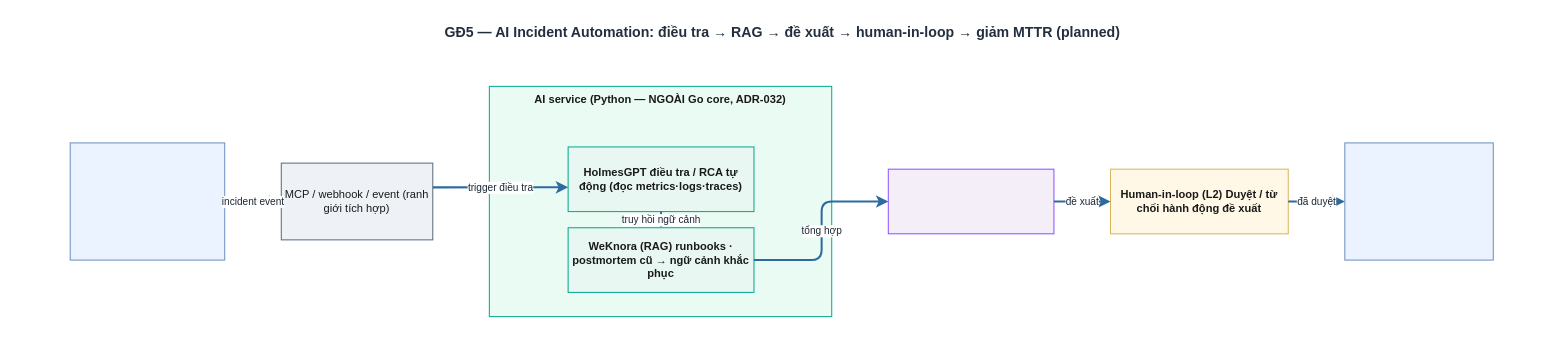
Image size: 1562x345. Some labels were removed from this diagram. Each missing label, with the box of its shape:
LogMon Go core incident BC phát IncidentOpened (SEV1/2): (69, 142, 225, 260)
RCA + đề xuất hành động (có độ tin cậy): (887, 168, 1054, 234)
Áp dụng incident: cập nhật notification: gửi → giảm MTTR: (1344, 142, 1493, 260)
